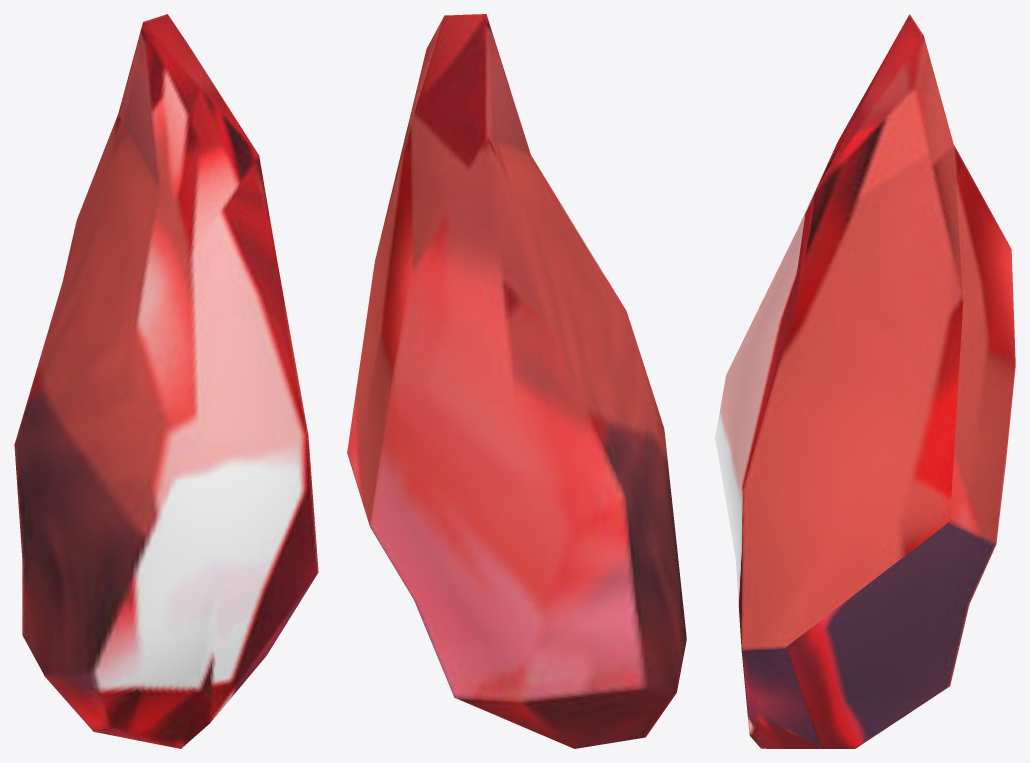
The model's file is Jewellery1.glb.
3 views of the same model, side by side, from view 1: azimuth 30°, elevation 25°; view 2: azimuth 150°, elevation 25°; view 3: azimuth 270°, elevation 25° (orthographic). The views are drawn at different scales.
Parts seen in each view (by area): view 1: Jewel03; view 2: Jewel03; view 3: Jewel03.
Boxes of the visible parts, left/top/right/bottom form: Jewel03: left=14, top=14, right=318, bottom=748; Jewel03: left=347, top=14, right=686, bottom=748; Jewel03: left=715, top=14, right=1015, bottom=748.
Size of the model in its own units: 0.1154 by 0.3051 by 0.1107.
Materials: 1 (1 with a texture image).
